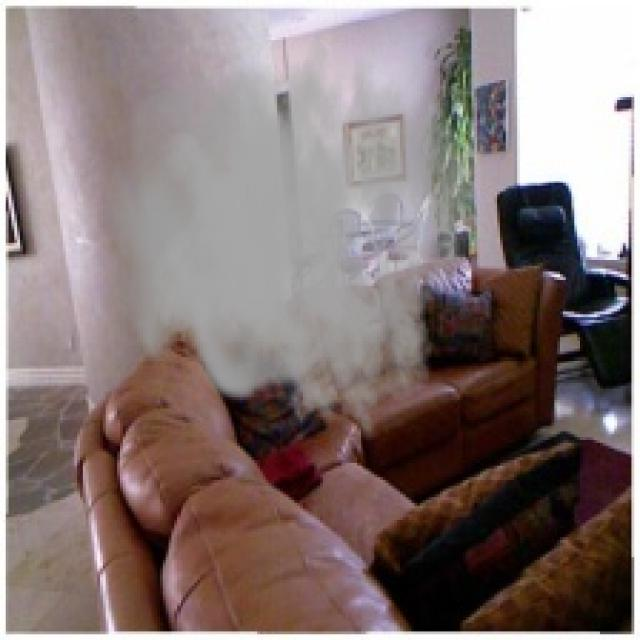smoke: (106, 12, 477, 437)
